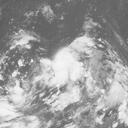cyclone: (52, 36, 114, 97)
